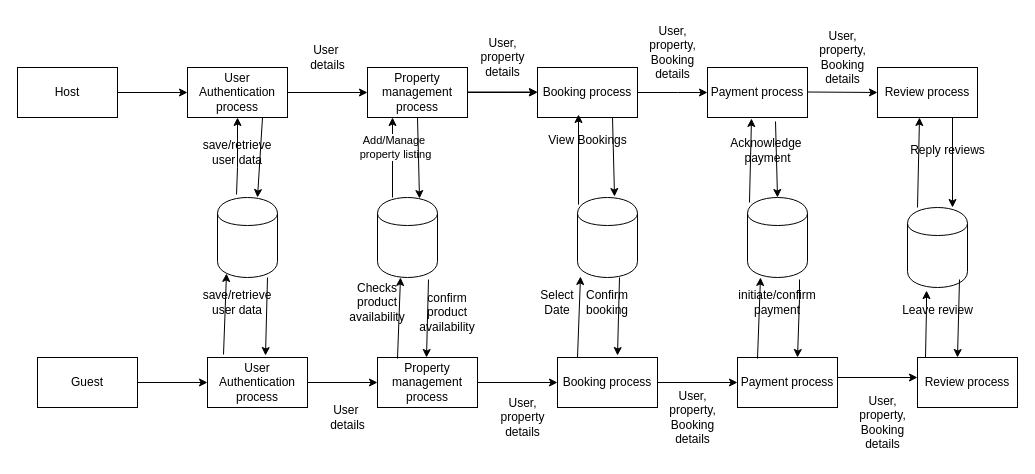
This 1035x474 diagram has some shape labels left out. Here are the shapes that lost their labels. From the top down, the centre of each, then its label:
At (x=247, y=237): "User Table".
At (x=407, y=237): "Property Table".
At (x=607, y=237): "Booking Table".
At (x=777, y=237): "Payment Table".
At (x=937, y=247): "Review Table".
